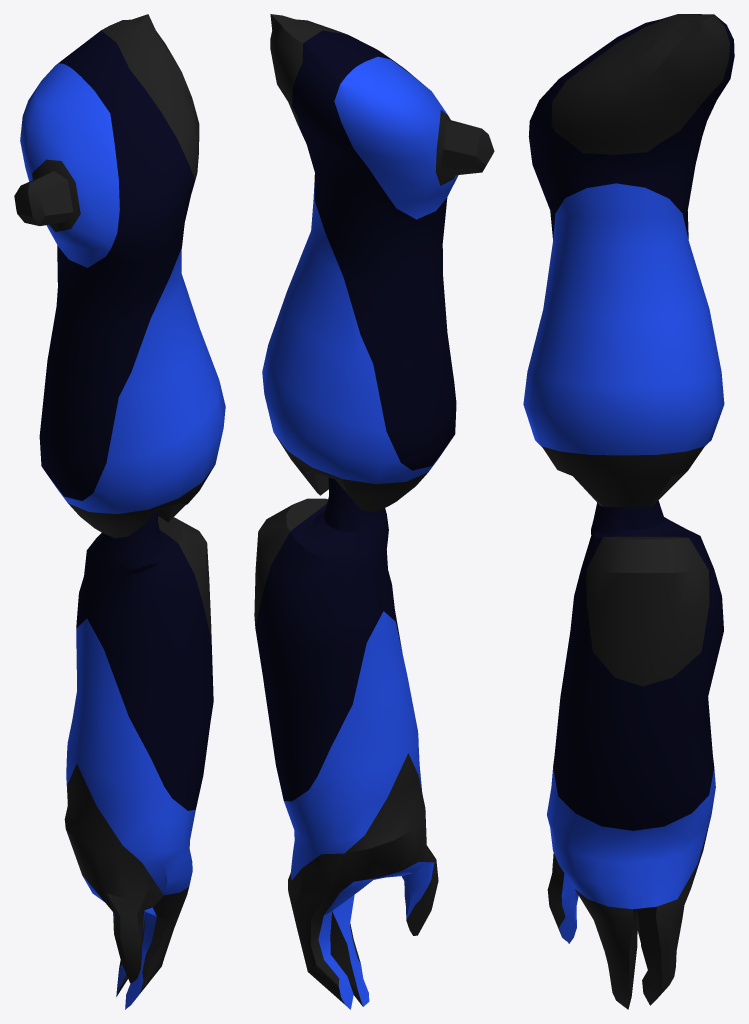
File: BracoEsq_3.fbx
The picture shows the model from 3 angles, left to right: view 1: azimuth 30°, elevation 25°; view 2: azimuth 150°, elevation 25°; view 3: azimuth 270°, elevation 25°; orthographic projection. The views are drawn at different scales.
Parts seen in each view (by area): view 1: BracoEsq_3; view 2: BracoEsq_3; view 3: BracoEsq_3.
Boxes of the visible parts, <box> form: BracoEsq_3: <box>14,14,225,1009</box>; BracoEsq_3: <box>254,14,494,1009</box>; BracoEsq_3: <box>523,14,734,1009</box>.
Bounding box in the file's own units: 38.54 × 177 × 33.32.
